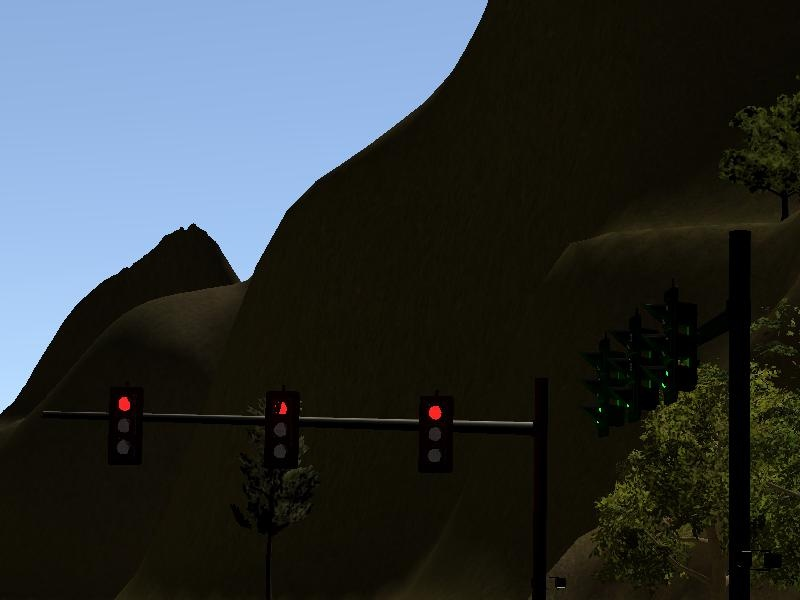RED: (262, 392, 308, 473), (415, 392, 455, 468), (107, 387, 147, 460)
